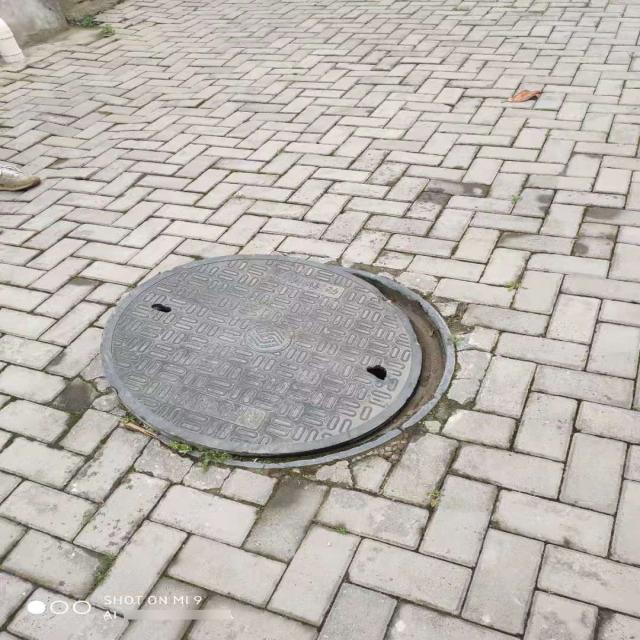Faulty: (100, 253, 456, 468)
